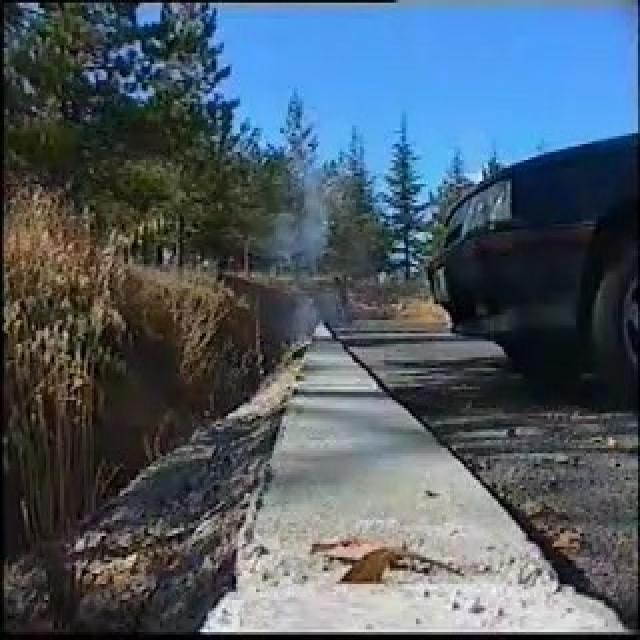smoke: (281, 253, 320, 344)
